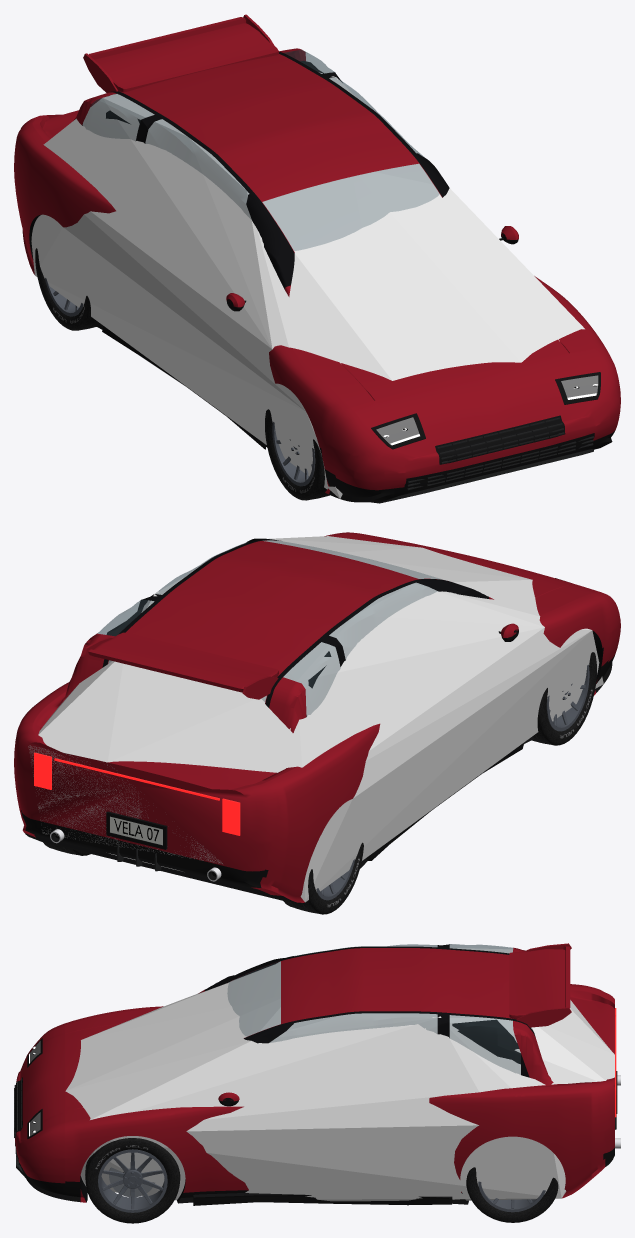
The model's file is noctra_vela_lod0.glb.
3 views of the same model, one above another, from view 1: azimuth 30°, elevation 25°; view 2: azimuth 150°, elevation 25°; view 3: azimuth 270°, elevation 25° (orthographic). The views are drawn at different scales.
Parts seen in each view (by area): view 1: col_body, body, glass, trim, lights_front, wheel_FR, wheel_RR; view 2: col_body, body, trim, glass, wheel_FR, lights_rear, wheel_RR, plate_rear, underbody; view 3: col_body, body, glass, trim, wheel_FL, wheel_RL, interior, lights_front.
Boxes of the visible parts, box(x1,y1,x2,y2) form: col_body: box(31, 72, 584, 498); body: box(14, 48, 620, 502); glass: box(82, 50, 439, 250); trim: box(83, 14, 593, 503); lights_front: box(371, 372, 600, 449); wheel_FR: box(265, 409, 329, 500); wheel_RR: box(35, 248, 96, 330); col_body: box(28, 536, 603, 902); body: box(14, 532, 620, 902); trim: box(83, 623, 524, 871); glass: box(97, 540, 441, 716); wheel_FR: box(532, 652, 596, 745); lights_rear: box(34, 752, 240, 835); wheel_RR: box(283, 842, 363, 914); plate_rear: box(106, 811, 167, 849); underbody: box(25, 630, 603, 902); col_body: box(65, 948, 614, 1201); body: box(14, 946, 614, 1204); glass: box(227, 944, 532, 1077); trim: box(14, 943, 616, 1205); wheel_FL: box(85, 1138, 180, 1223); wheel_RL: box(466, 1167, 558, 1222); interior: box(452, 1019, 520, 1064); lights_front: box(27, 1038, 42, 1138).
Bounding box in the file's own units: 1.85 × 1.43 × 4.07.
15 materials, 3 textured.
